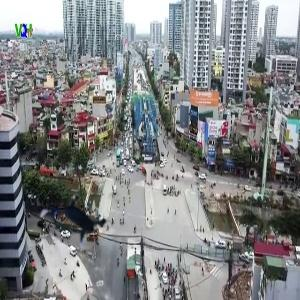drone: (36, 180, 122, 266)
